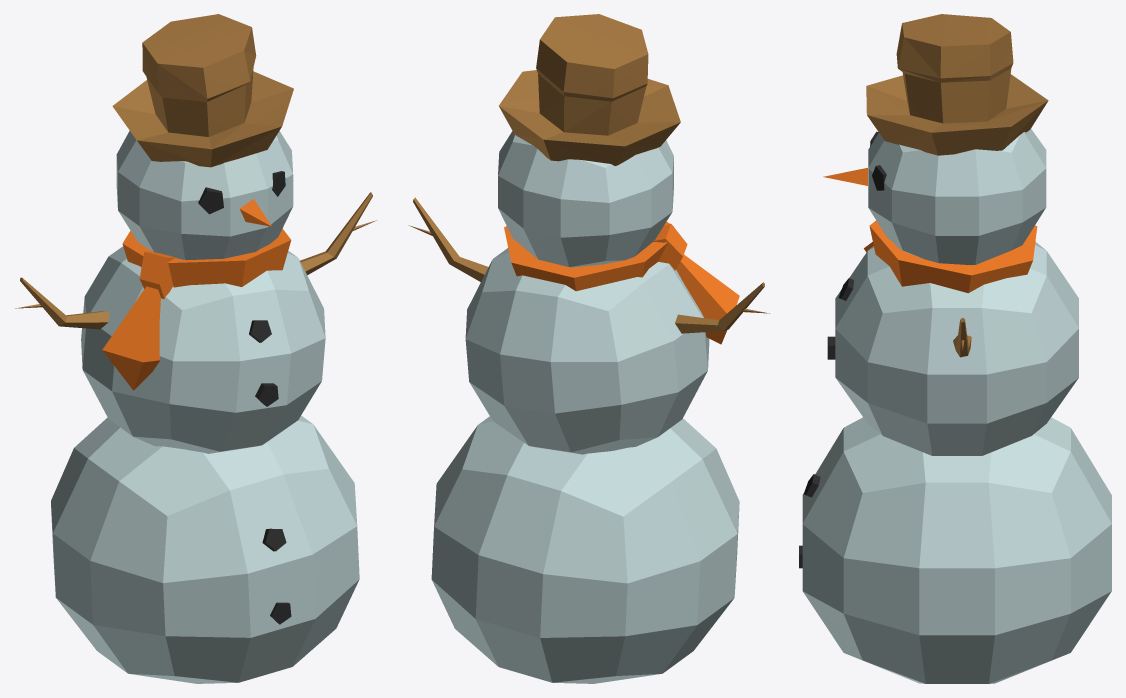
The model's file is nature_snowman.fbx.
3 views of the same model, side by side, from view 1: azimuth 30°, elevation 25°; view 2: azimuth 150°, elevation 25°; view 3: azimuth 270°, elevation 25° (orthographic).
Parts seen in each view (by area): view 1: nature_snowman; view 2: nature_snowman; view 3: nature_snowman.
Boxes of the visible parts, x1,y1,x2,y2 form: nature_snowman: (15,14,377,683); nature_snowman: (408,14,769,683); nature_snowman: (799,14,1111,683).
Bounding box in the file's own units: 121 × 200 × 88.52.
